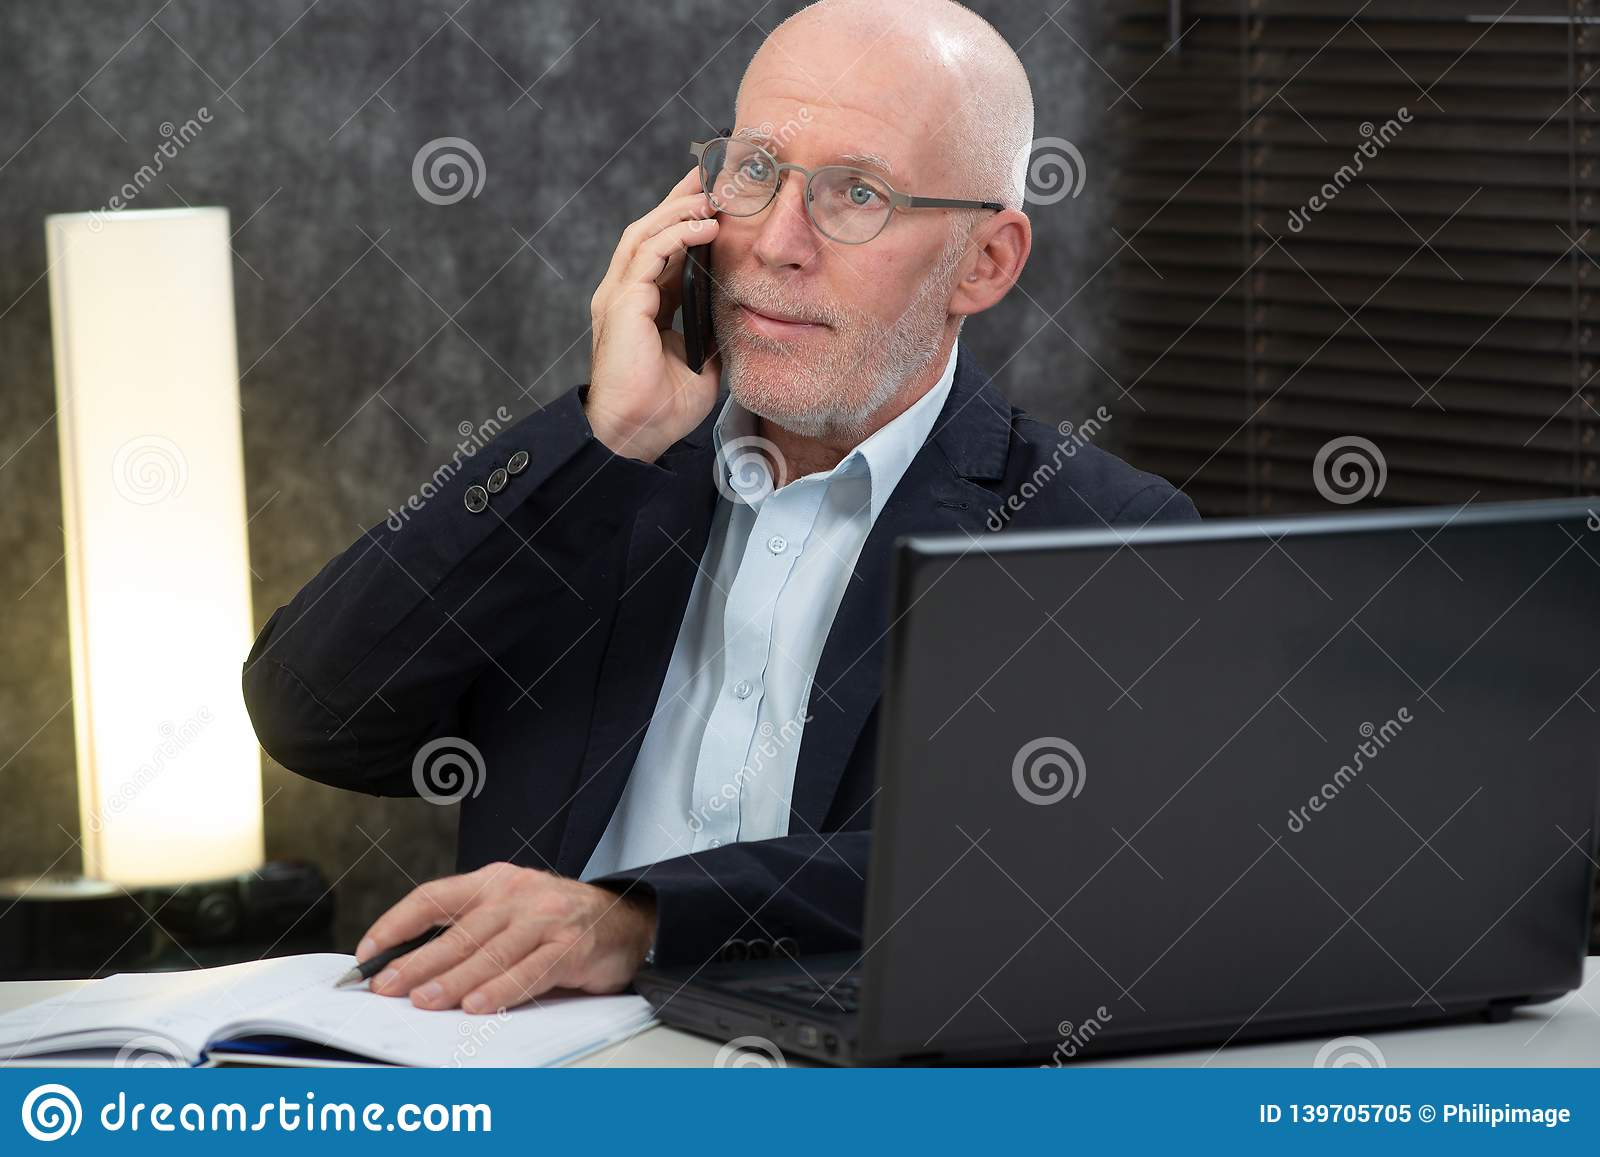phone: (676, 128, 727, 383)
talk: (585, 98, 914, 464)
